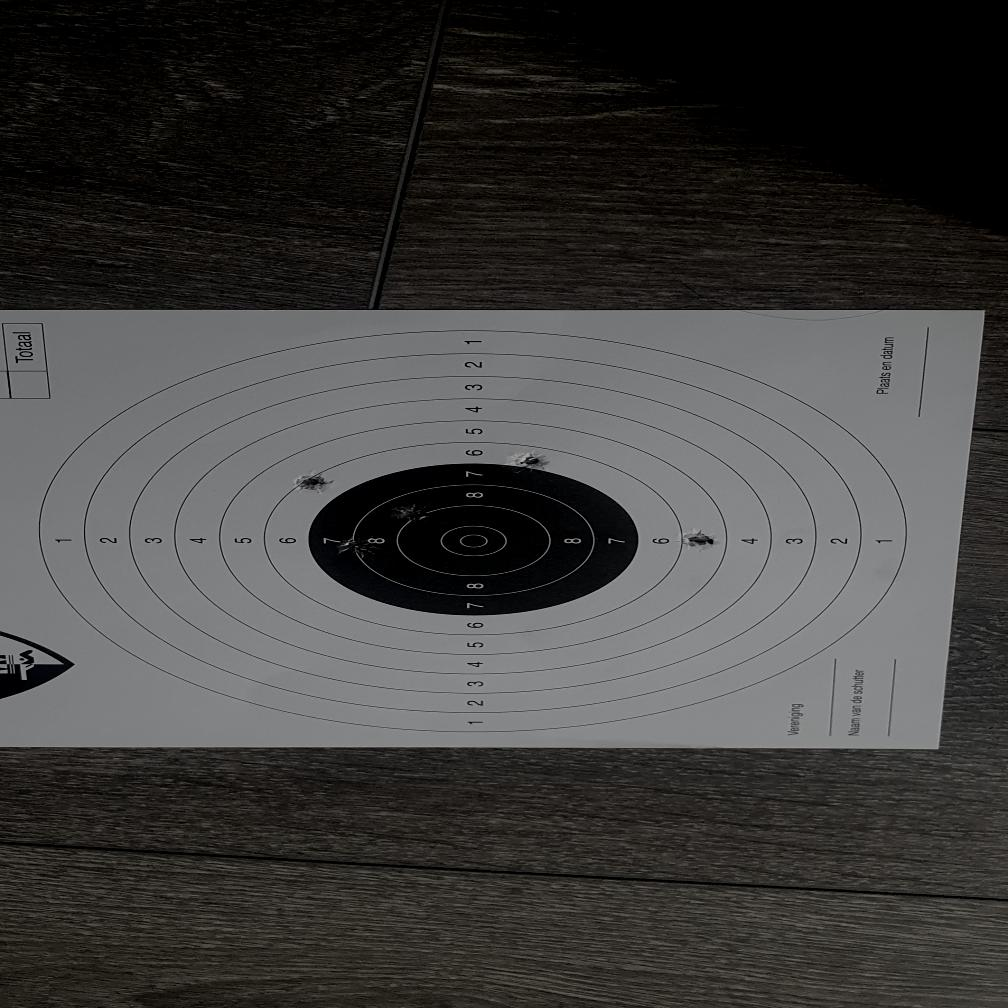6: (290, 472, 334, 494), (677, 530, 719, 550)
7: (501, 450, 557, 473)
8: (336, 536, 383, 557)
9: (390, 505, 431, 523)
Target: (33, 330, 908, 734)
black_contour: (309, 463, 638, 615)
